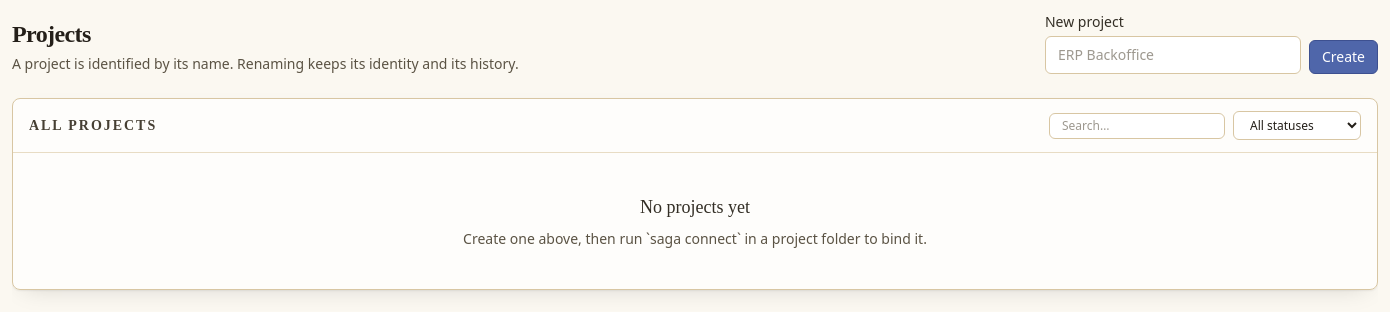
it: Projects page › keeps the status filter in the URL so the view can be shared
This screenshot has width=1390, height=312.
Expected: the text "No projects yet" is shown, [640,197,750,217]
Select "Archived" in the dropdown named "Filter by status": coordinates (1297, 126) [1233,111,1361,140]
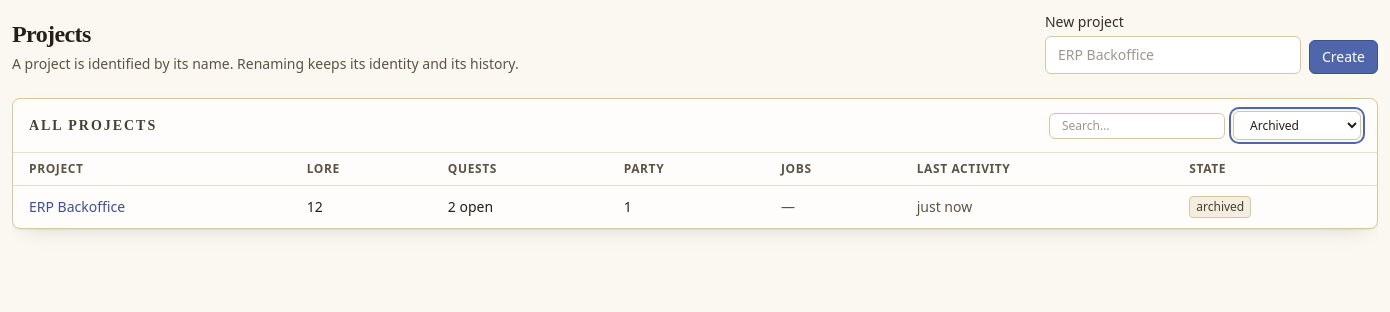
Now the text "archived" is shown, box [1189,196,1251,218]
